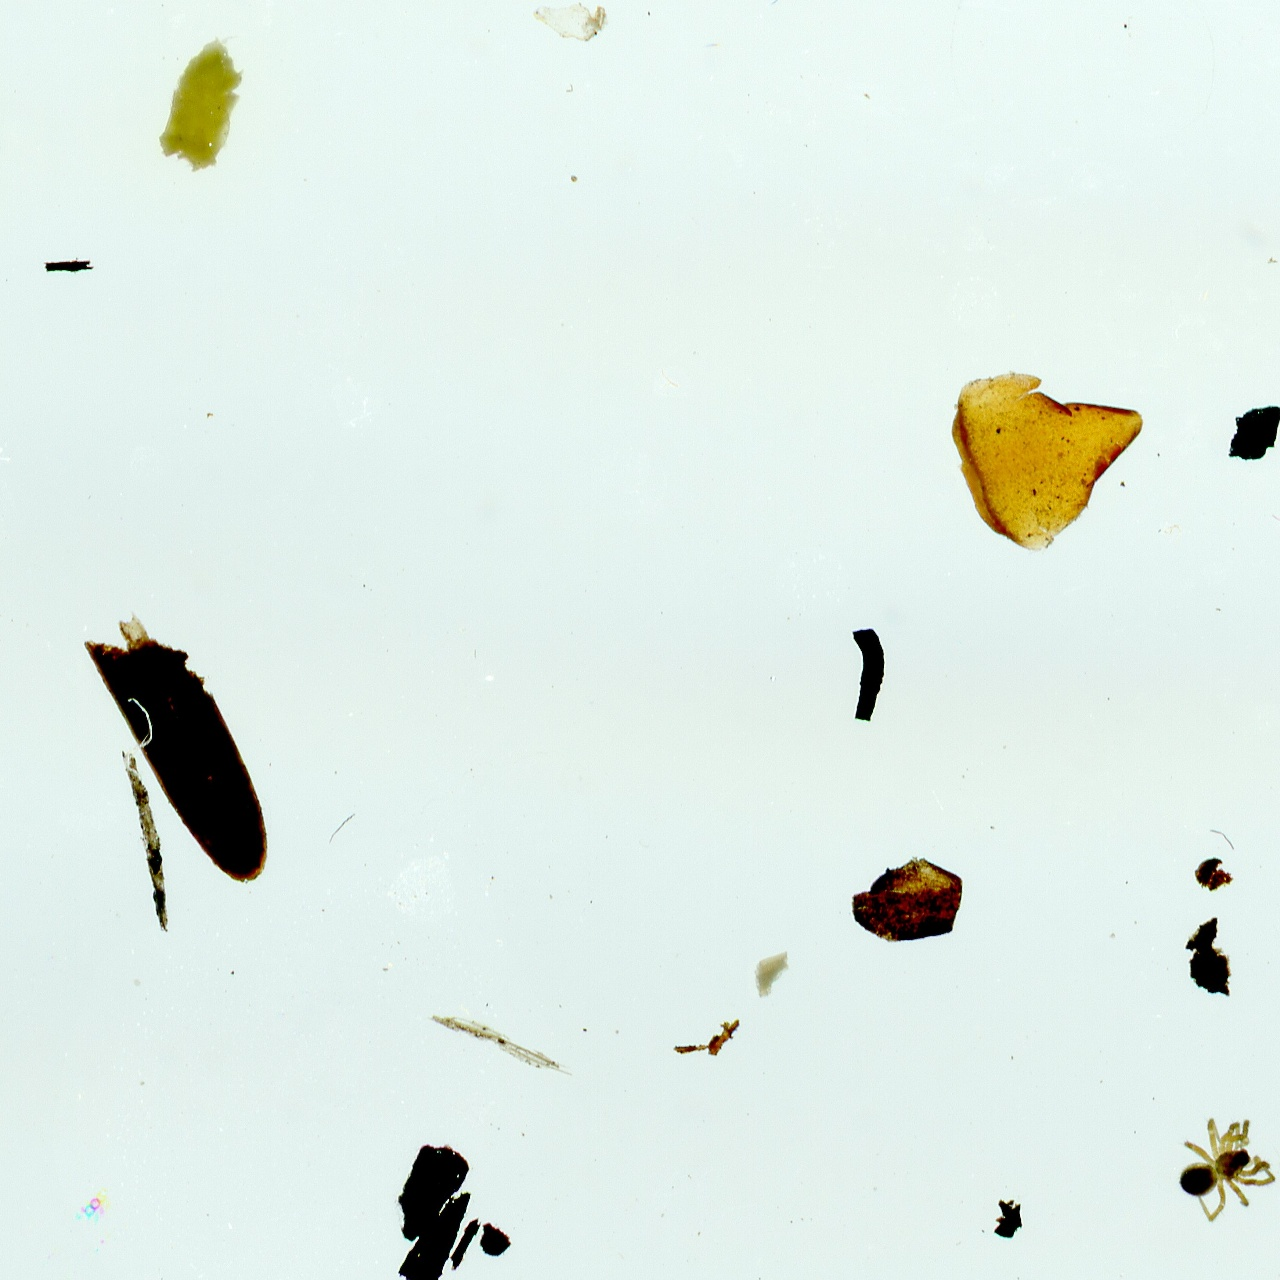arthropod: (1170, 1108, 1280, 1228)
